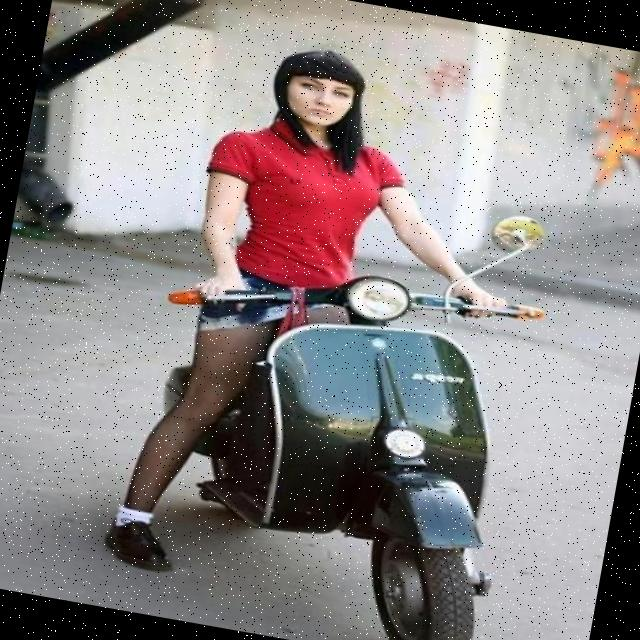No helmet: (267, 49, 372, 160)
